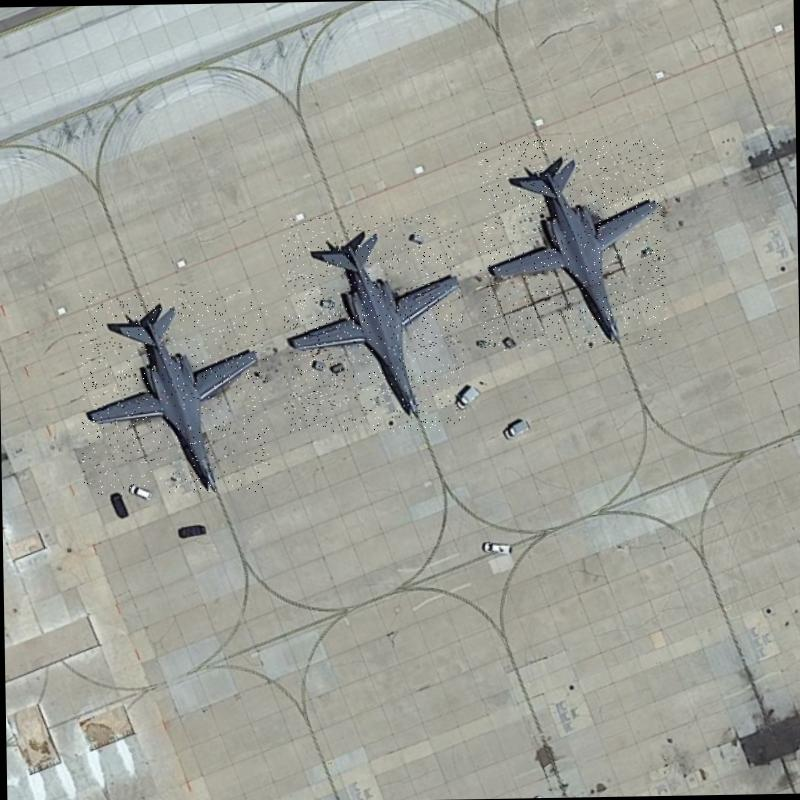A10: (280, 214, 465, 433), (78, 286, 270, 496), (476, 138, 666, 350)
